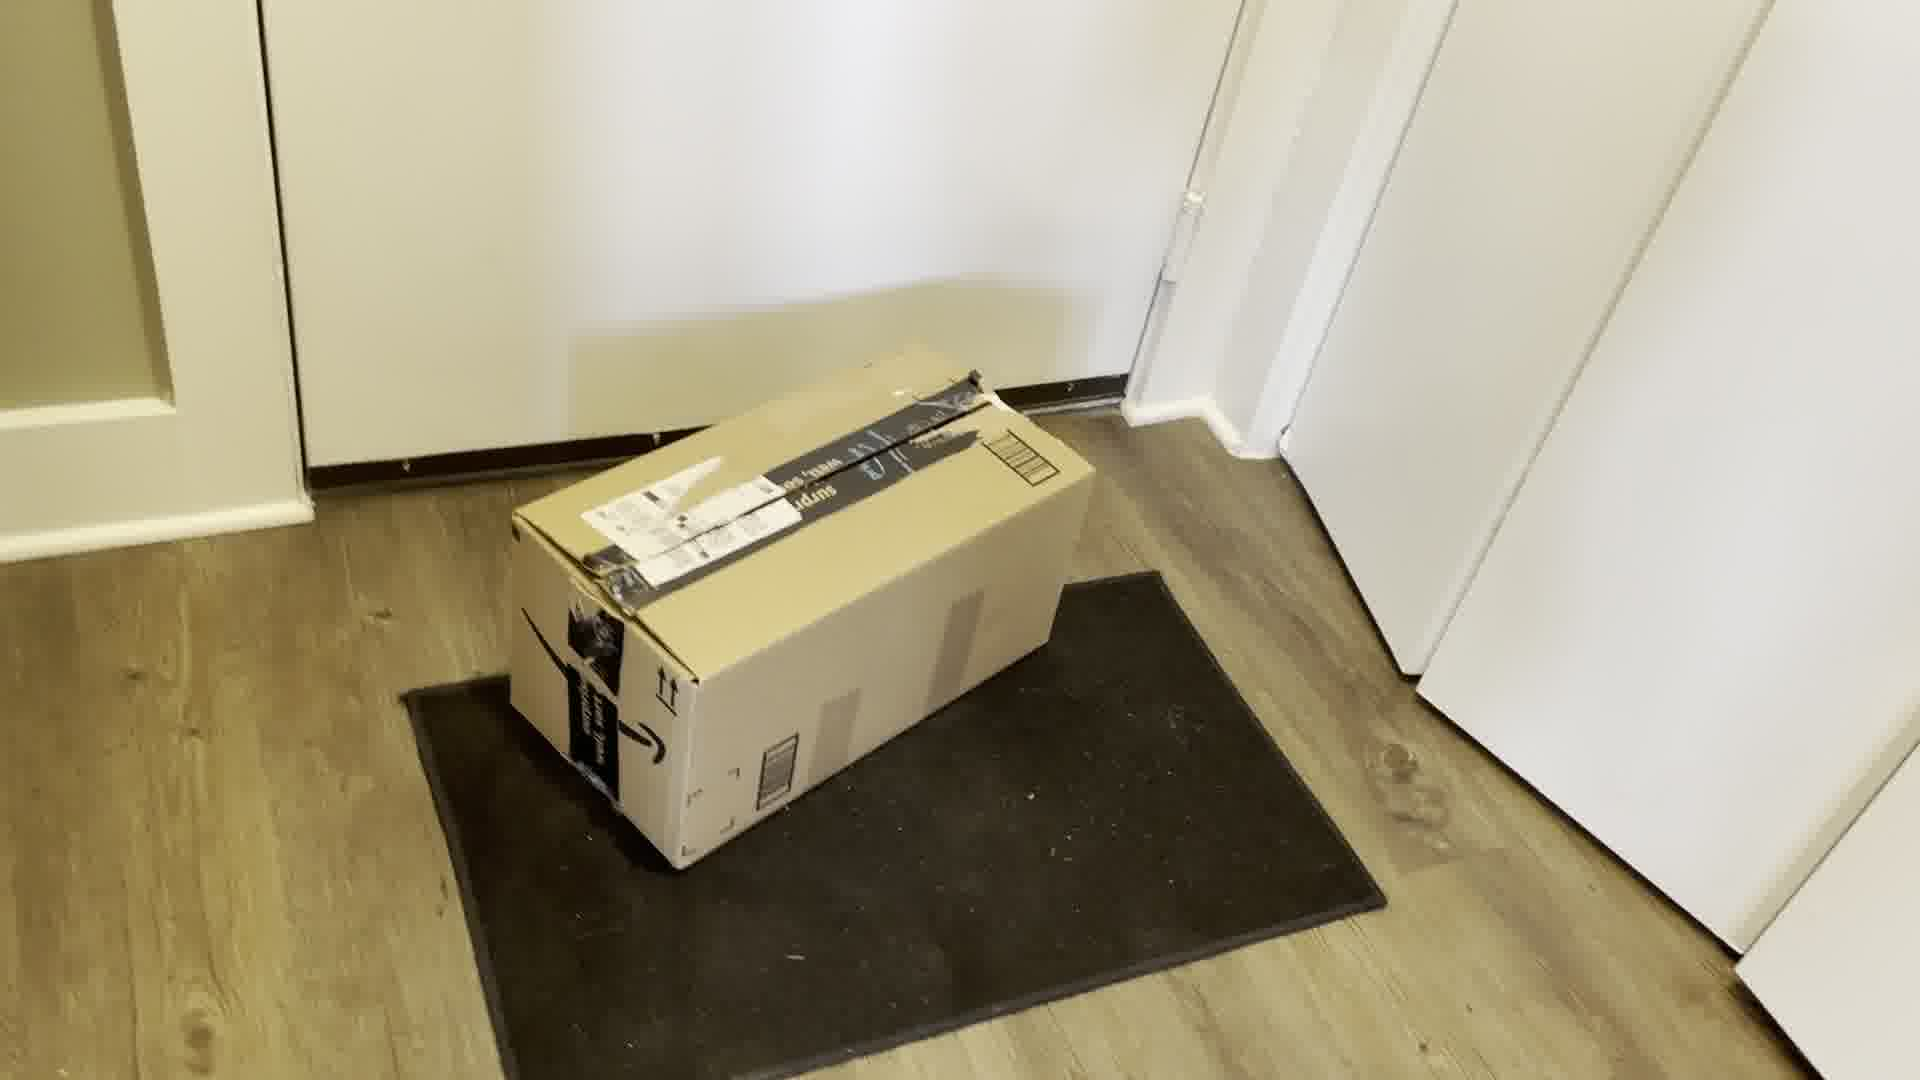box: (485, 347, 1100, 855)
